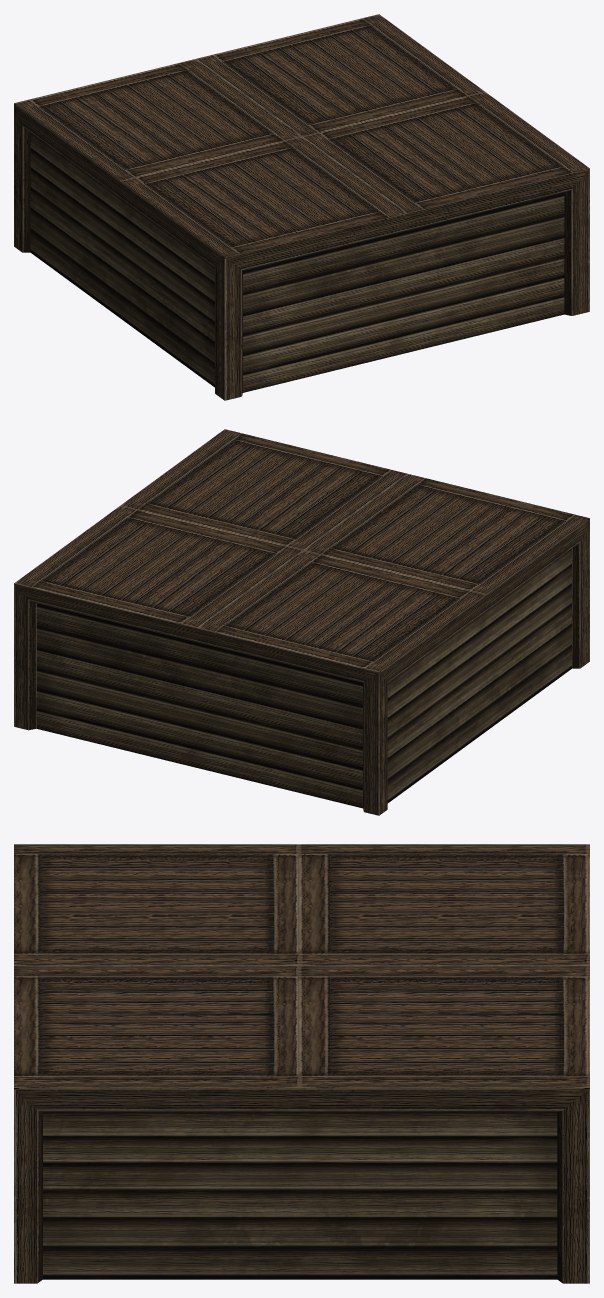
Rendered from House_8X8_03c.fbx.
3 views of the same model, one above another, from view 1: azimuth 30°, elevation 25°; view 2: azimuth 150°, elevation 25°; view 3: azimuth 270°, elevation 25° (orthographic). The views are drawn at different scales.
Visible parts, largest first — view 1: House_8X8_03c; view 2: House_8X8_03c; view 3: House_8X8_03c.
Boxes of the visible parts, <box> form: House_8X8_03c: <box>14,14,589,400</box>; House_8X8_03c: <box>14,429,589,815</box>; House_8X8_03c: <box>14,844,589,1283</box>.
Bounding box in the file's own units: 8 × 3 × 8.
